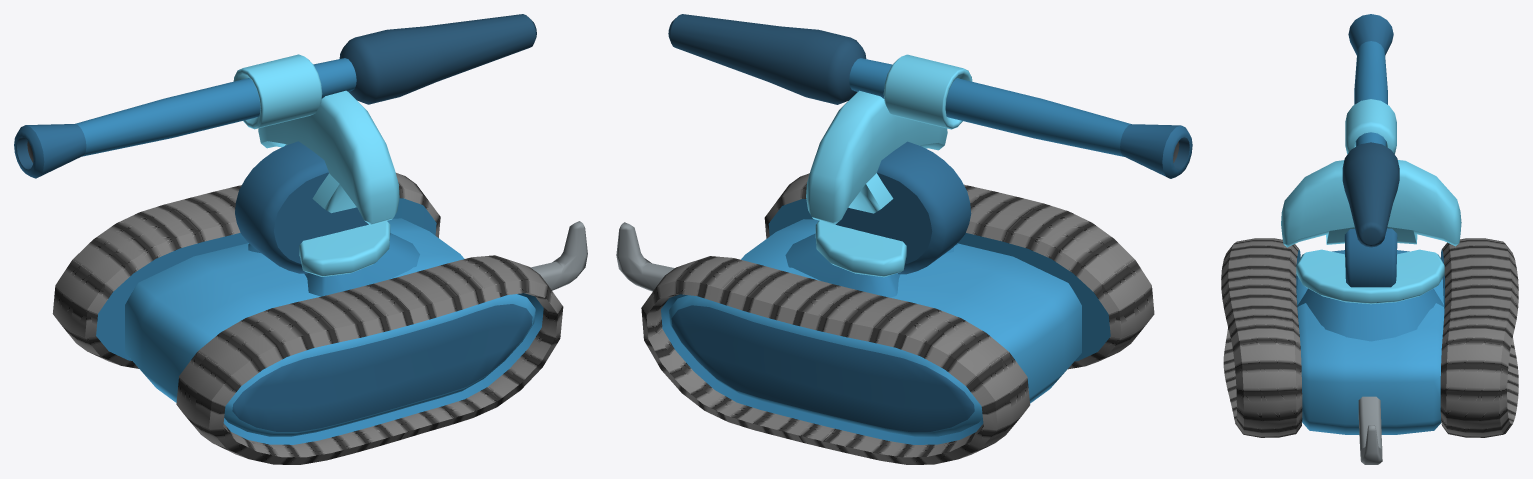
File: KarakterArac.fbx
3 views of the same model, side by side, from view 1: azimuth 30°, elevation 25°; view 2: azimuth 150°, elevation 25°; view 3: azimuth 270°, elevation 25° (orthographic). The views are drawn at different scales.
Parts seen in each view (by area): view 1: Arac, Silah, Taret; view 2: Arac, Silah, Taret; view 3: Arac, Taret, Silah.
Boxes of the visible parts, x1,y1,x2,y2 form: Arac: [52, 173, 587, 464]; Silah: [14, 14, 536, 178]; Taret: [235, 90, 399, 273]; Arac: [616, 173, 1154, 464]; Silah: [668, 14, 1192, 178]; Taret: [806, 90, 971, 274]; Arac: [1221, 238, 1518, 464]; Taret: [1281, 160, 1461, 287]; Silah: [1342, 14, 1399, 247].
Bounding box in the file's own units: 4.94 × 2.8 × 2.75.
